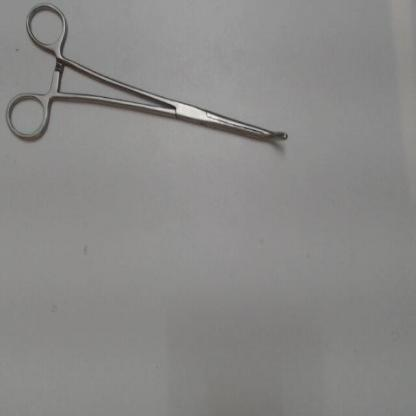Lahey Forceps: (3, 1, 296, 152)
